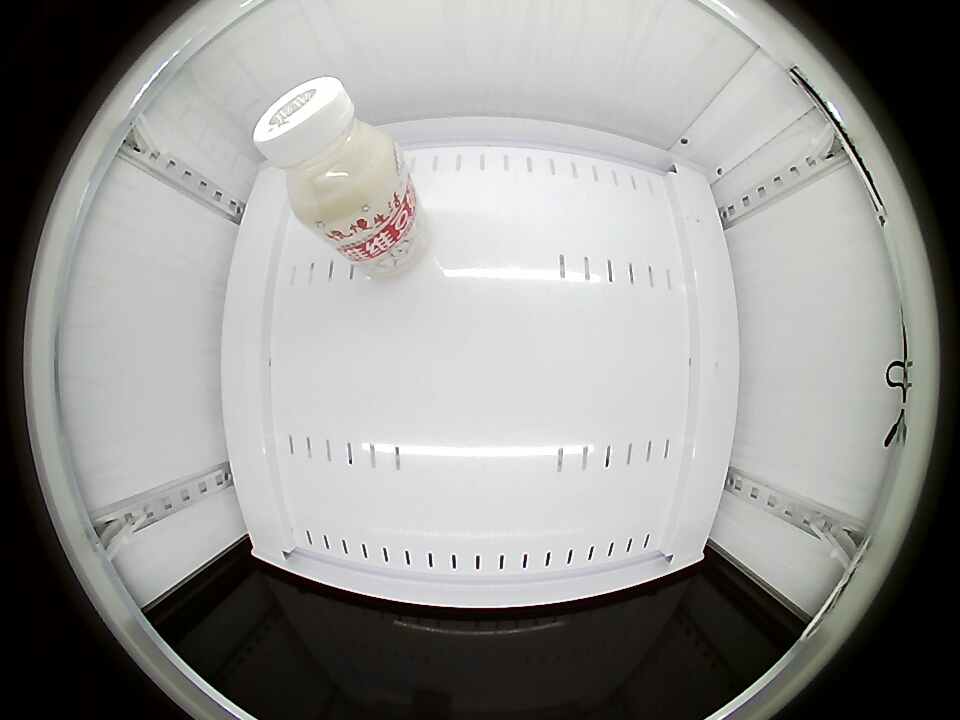weiweidounai: (253, 76, 402, 226)
